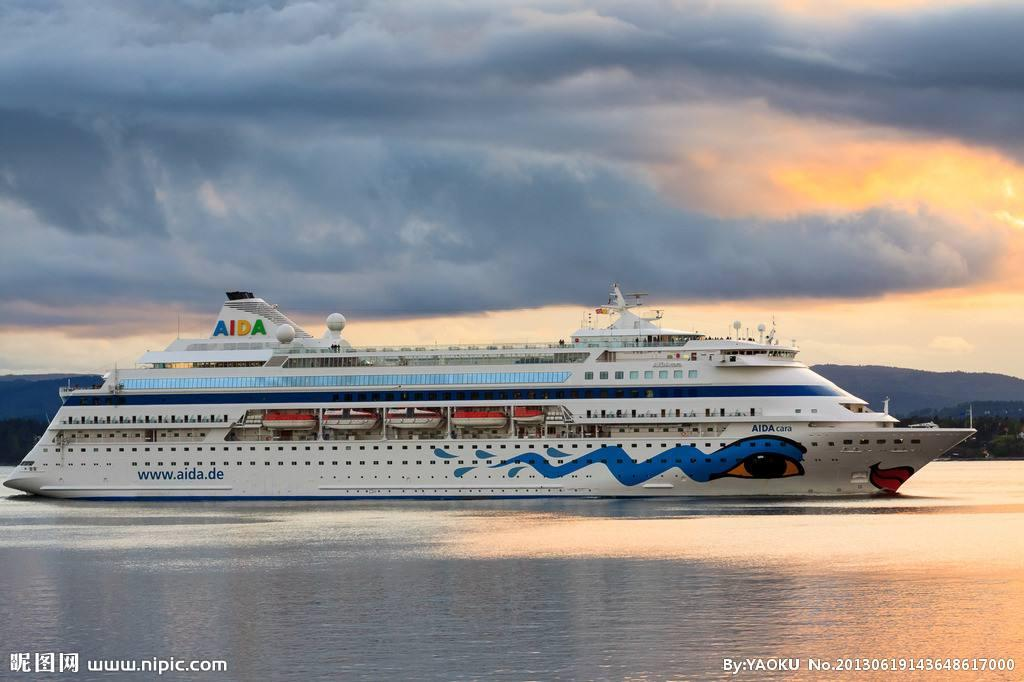youlun: (19, 286, 982, 510)
